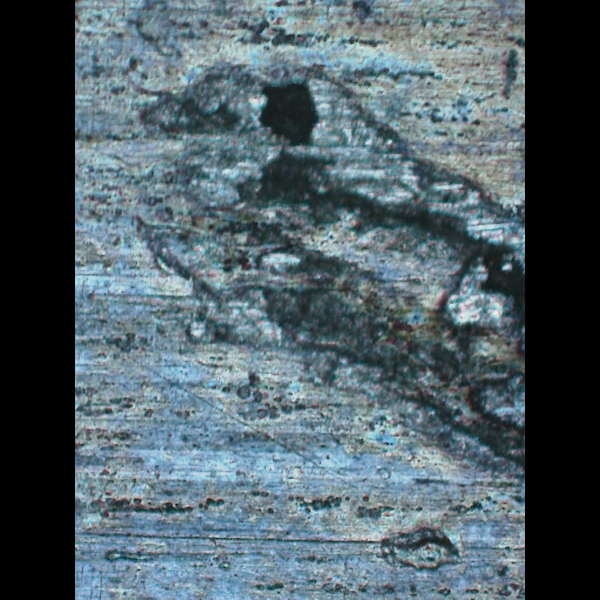d: (127, 58, 525, 473), (370, 522, 467, 573)
